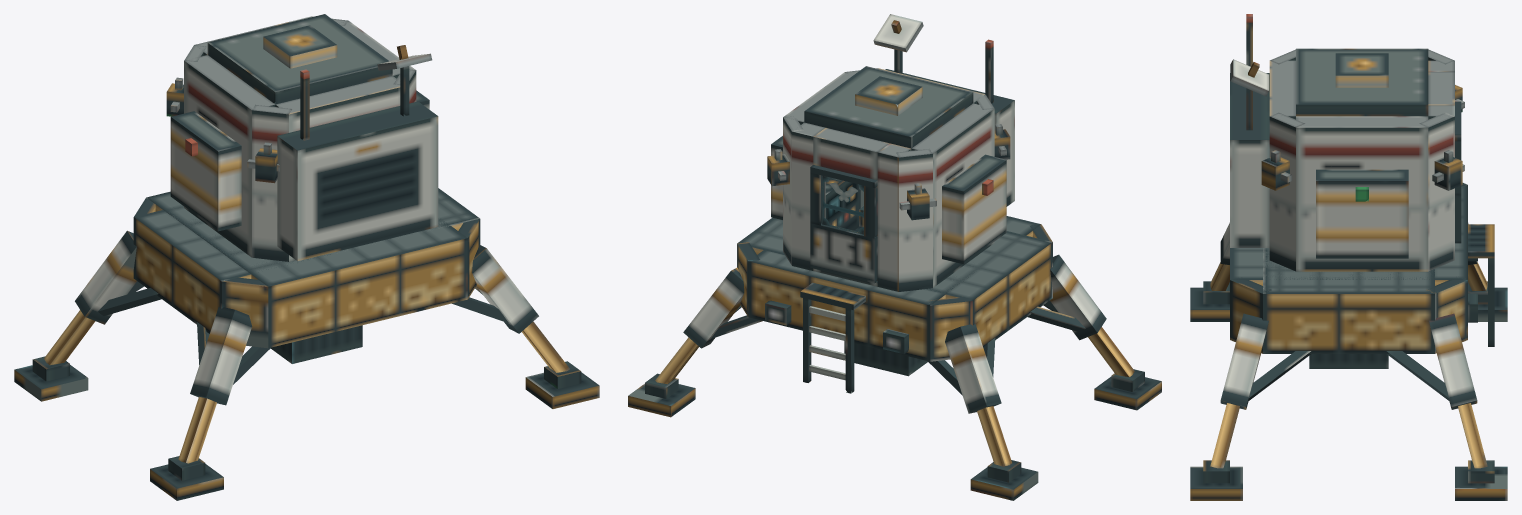
The model's file is lander.obj.
3 views of the same model, side by side, from view 1: azimuth 30°, elevation 25°; view 2: azimuth 150°, elevation 25°; view 3: azimuth 270°, elevation 25° (orthographic). The views are drawn at different scales.
Parts seen in each view (by area): view 1: Cabin, Body, Feet, Engine, Whip; view 2: Cabin, Body, Feet, Door, Engine, Dish, DoorGlass; view 3: Cabin, Body, Feet, Engine, Dish, Door, Whip.
Boxes of the visible parts, <box> form: Cabin: <box>166,14,438,261</box>; Body: <box>75,188,538,405</box>; Feet: <box>14,310,599,500</box>; Engine: <box>271,325,362,363</box>; Whip: <box>300,69,309,140</box>; Cabin: <box>767,49,1014,291</box>; Body: <box>683,216,1106,413</box>; Feet: <box>628,327,1161,500</box>; Door: <box>810,165,877,283</box>; Engine: <box>844,341,927,376</box>; Dish: <box>873,14,923,52</box>; DoorGlass: <box>822,176,863,234</box>; Cabin: <box>1230,48,1464,271</box>; Body: <box>1220,183,1494,409</box>; Feet: <box>1190,262,1507,500</box>; Engine: <box>1309,354,1388,368</box>; Dish: <box>1230,59,1268,96</box>; Door: <box>1455,101,1461,243</box>; Whip: <box>1246,14,1252,66</box>.
Bounding box in the file's own units: 4.5 × 3.75 × 3.
